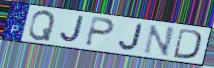D: (172, 27, 203, 61)
J: (117, 22, 145, 52), (58, 15, 85, 45)
N: (142, 24, 177, 58)
P: (84, 16, 117, 48)
Q: (27, 10, 57, 42)
